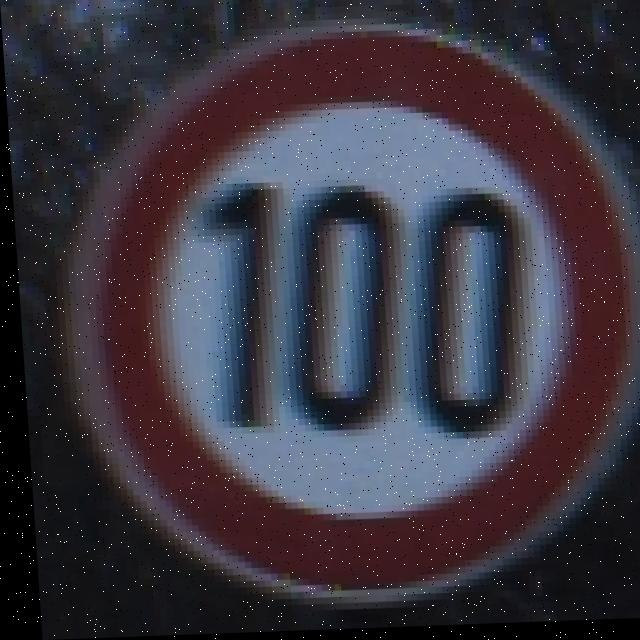speed_limit_100: (77, 30, 640, 594)
